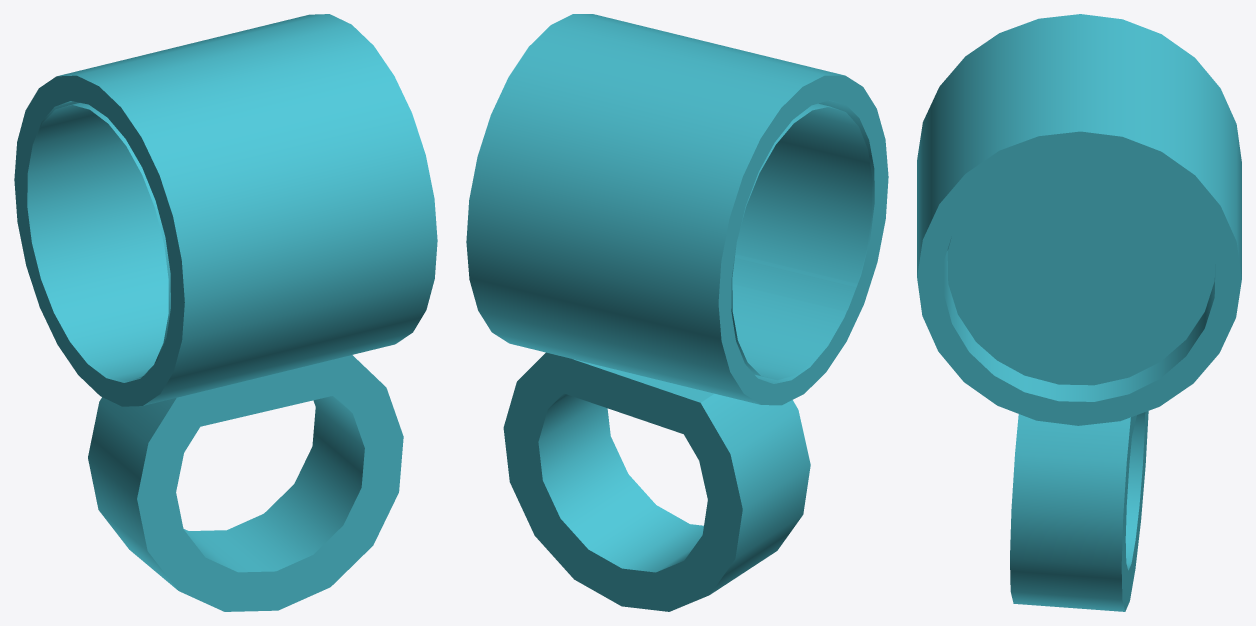
3 views of the same model, side by side, from view 1: azimuth 30°, elevation 25°; view 2: azimuth 150°, elevation 25°; view 3: azimuth 270°, elevation 25° (orthographic). The views are drawn at different scales.
Visible parts, largest first — view 1: Renderer Node; view 2: Renderer Node; view 3: Renderer Node.
Part boxes in pixels (box(x1,y1,x2,y2)): Renderer Node: box(14, 14, 437, 611); Renderer Node: box(466, 14, 888, 611); Renderer Node: box(917, 14, 1241, 611).
Size of the model in its own units: 0.4233 by 0.7864 by 0.4499.
1 material, 1 textured.
